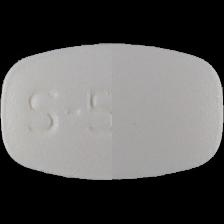16714-271: (0, 0, 224, 224)
